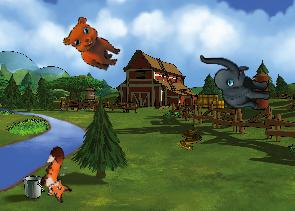bear: (59, 13, 128, 74)
elephant: (200, 53, 270, 110)
fox: (33, 144, 84, 205)
